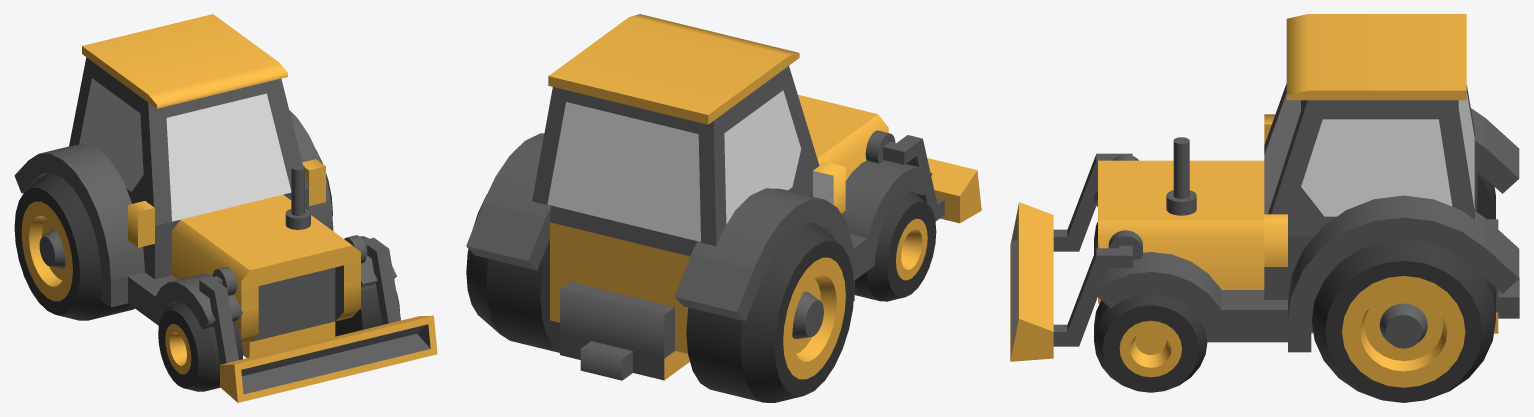
File: tractorShovel.fbx
3 views of the same model, side by side, from view 1: azimuth 30°, elevation 25°; view 2: azimuth 150°, elevation 25°; view 3: azimuth 270°, elevation 25° (orthographic). The views are drawn at different scales.
Parts seen in each view (by area): view 1: body, shovel, skirts, wheel_backRight, wheel_frontRight, wheel_frontLeft; view 2: body, skirts, wheel_backRight, wheel_backLeft, wheel_frontRight, shovel; view 3: body, skirts, wheel_backLeft, shovel, wheel_frontLeft, wheel_backRight.
Boxes of the visible parts, x1,y1,x2,y2 form: body: (69,14,360,357); shovel: (199,235,437,402); skirts: (14,110,396,329); wheel_backRight: (14,173,134,320); wheel_frontRight: (158,301,242,391); wheel_frontLeft: (335,287,399,336); body: (532,14,888,380); skirts: (466,133,932,321); wheel_backRight: (686,223,854,402); wheel_backLeft: (466,194,559,352); wheel_frontRight: (854,191,936,301); shovel: (865,130,981,223); body: (1098,14,1519,333); skirts: (1093,108,1519,352); wheel_backLeft: (1311,239,1495,402); shovel: (1010,153,1142,361); wheel_frontLeft: (1094,293,1207,392); wheel_backRight: (1477,171,1495,219).
Bounding box in the file's own units: 16.61 × 15.12 × 24.13.
